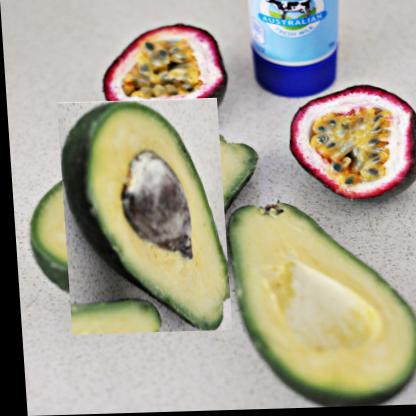avocado: (38, 117, 246, 319), (221, 200, 415, 411)
